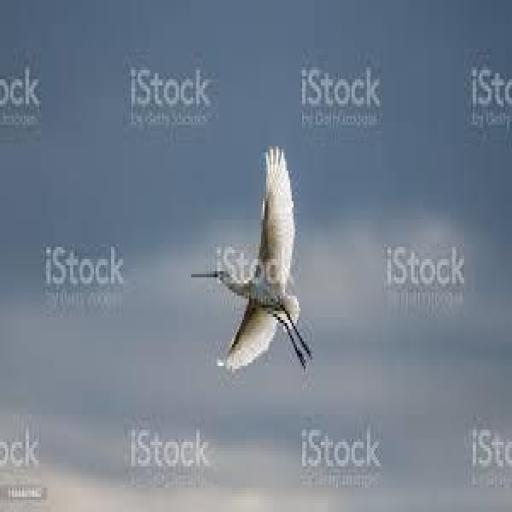birds: (188, 139, 317, 388)
